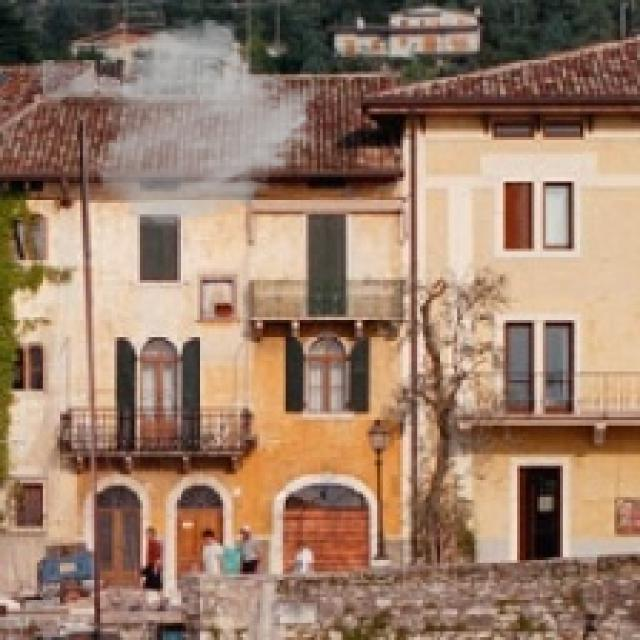Smoke: (91, 14, 326, 229)
